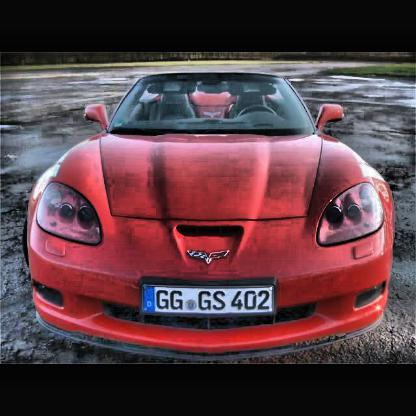Chevrolet Corvette Convertible 2012: (27, 71, 396, 362)
